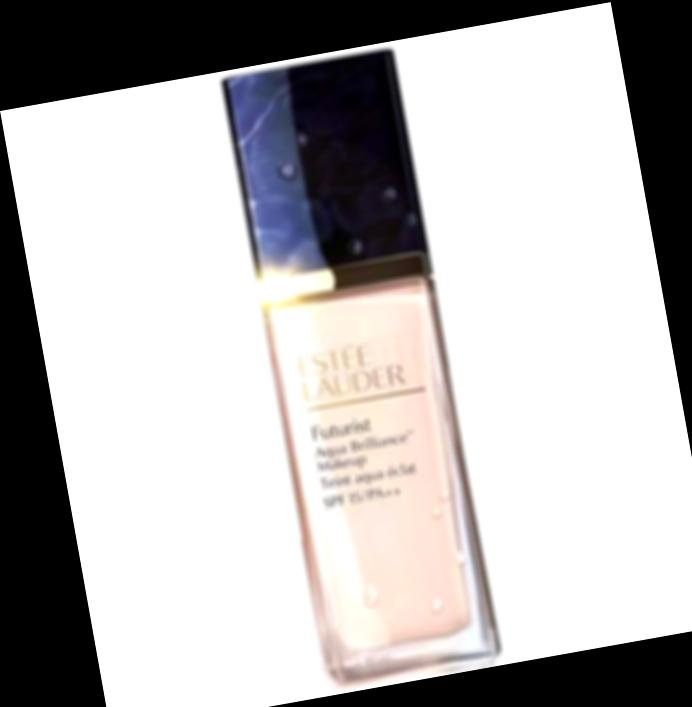cosmetic: (218, 45, 506, 692)
